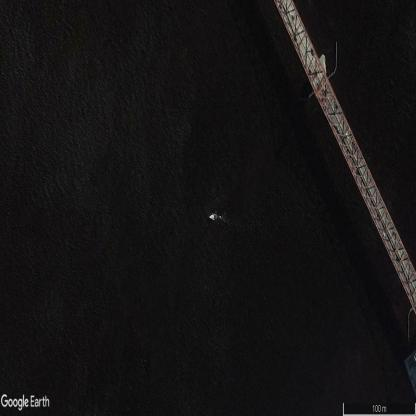ship: (209, 214, 217, 220)
